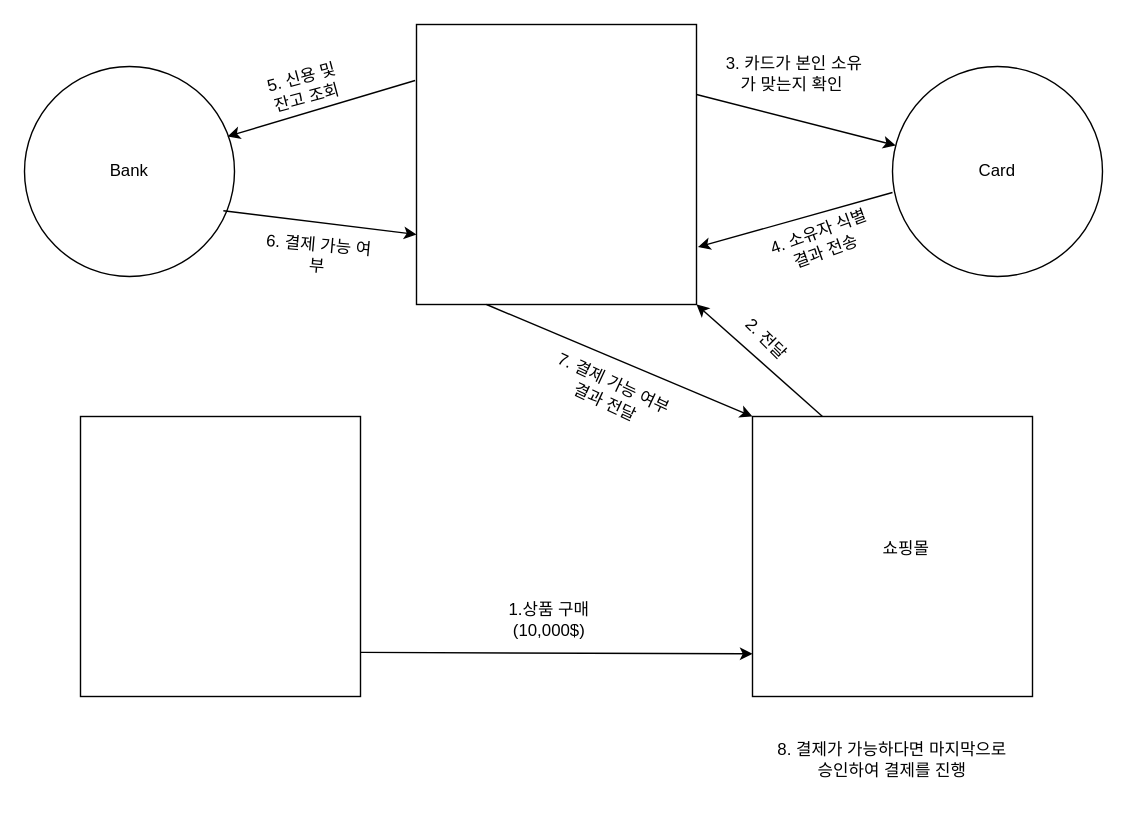
This 1127x833 diagram has some shape labels left out. The shapes that lost their labels are listed below. From the top down, each one's centre as x and y in pixels, then its label:
At point 555,163: "PG사".
At point 219,555: "고객".
